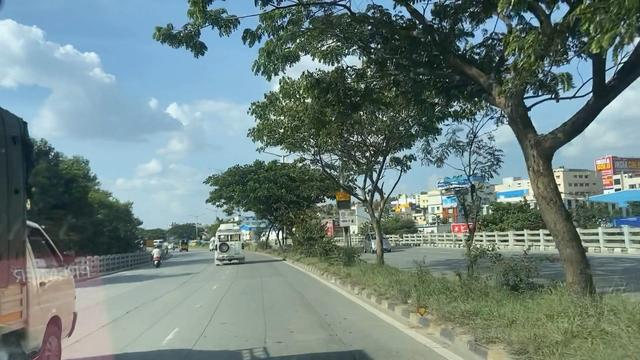HMV: (216, 217, 247, 267)
